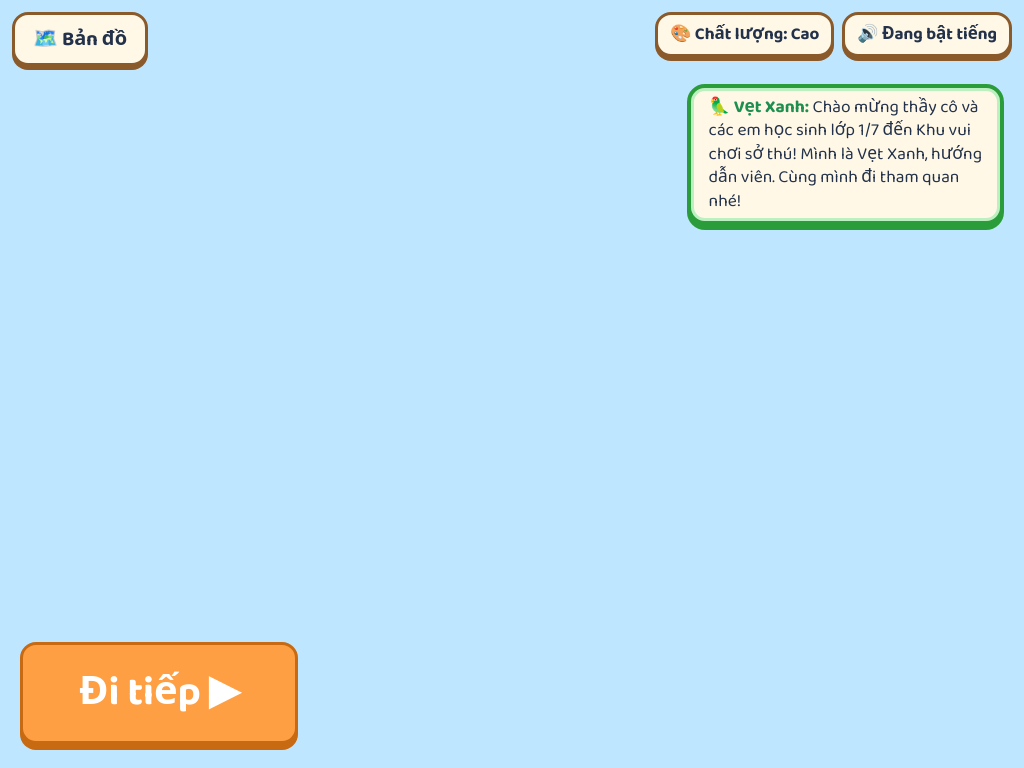
Scenario: ở bến xe: Vẹt Xanh chào và có nút Đi tiếp
Expected: the text "học sinh lớp 1/7" is shown, x1=709 y1=93 x2=982 y2=215
Click the button "Đi tiếp ▶" at (159, 693), box x1=20 y1=642 x2=298 y2=744
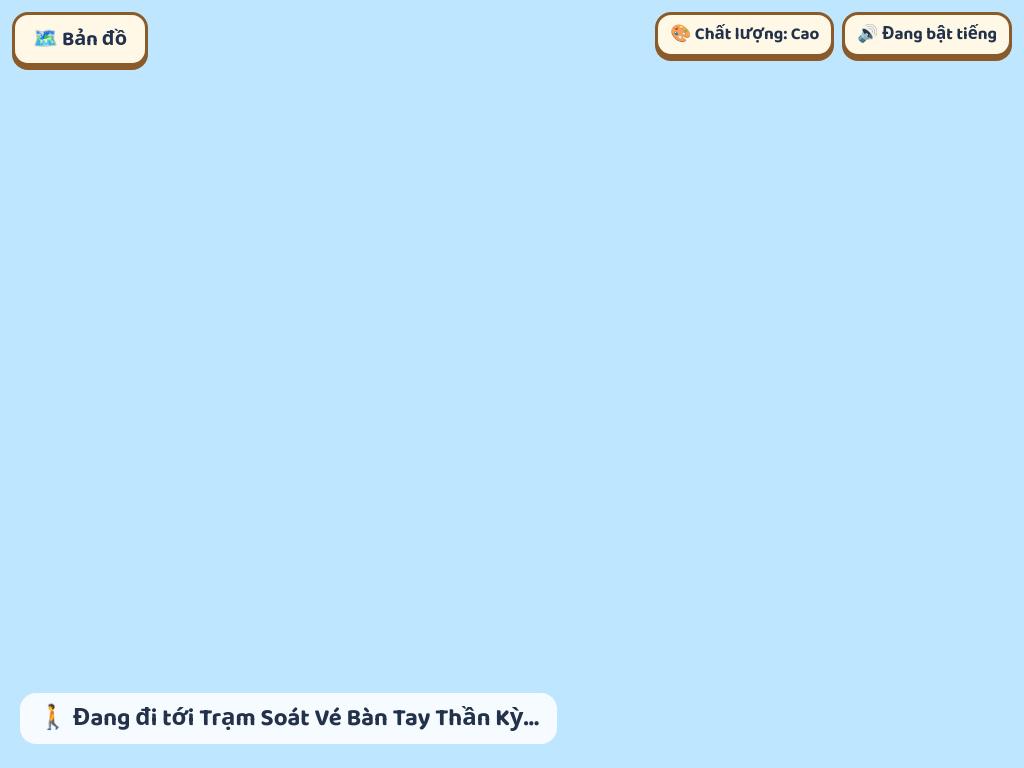
Result: the text "🚶 Đang đi tới Trạm Soát Vé Bàn Tay Thần Kỳ…" is shown at x1=20 y1=693 x2=557 y2=744
